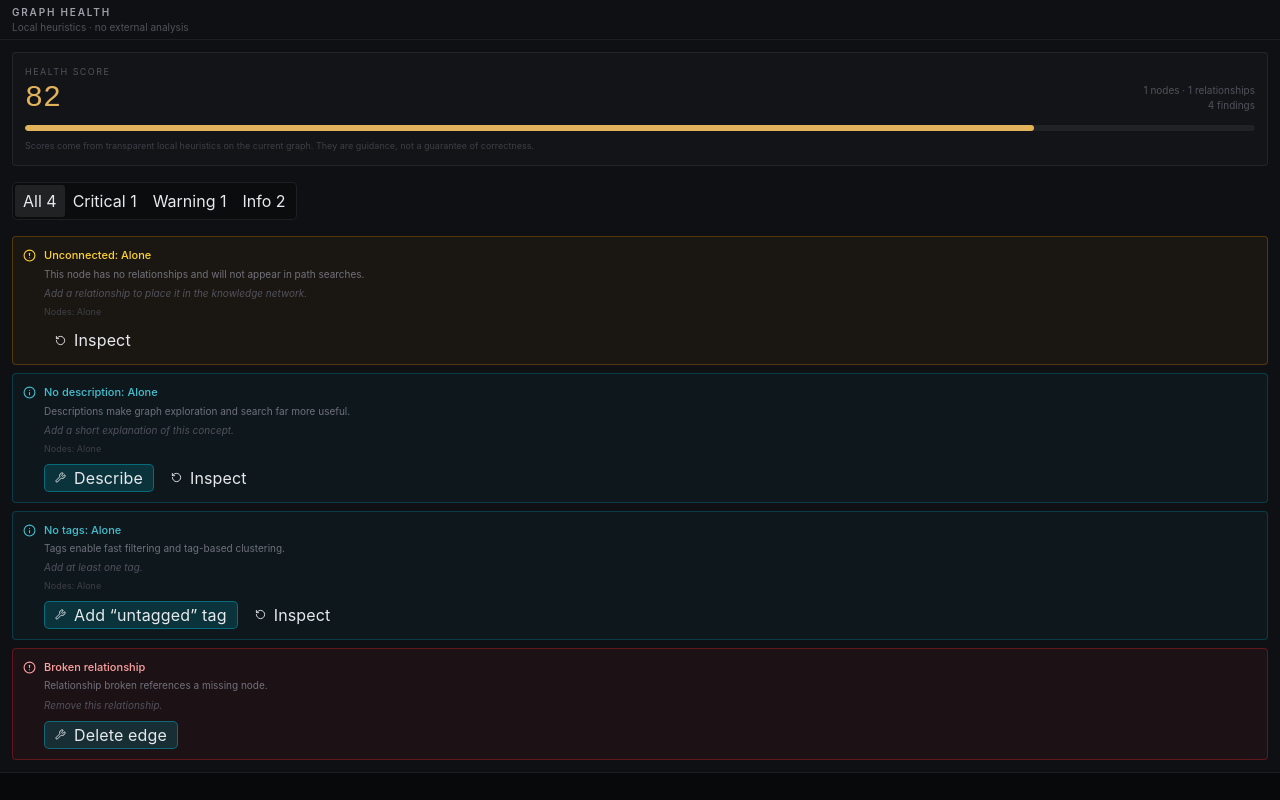
Test: HealthPanel › flags a critical broken relationship and removes it with the fix
expect the tab "Critical 1" is shown: met, box [65,185,145,217]
expect the text "Broken relationship" is shown: met, box [44,660,145,674]
Click the button "Delete edge": (111, 735) [44,721,178,749]
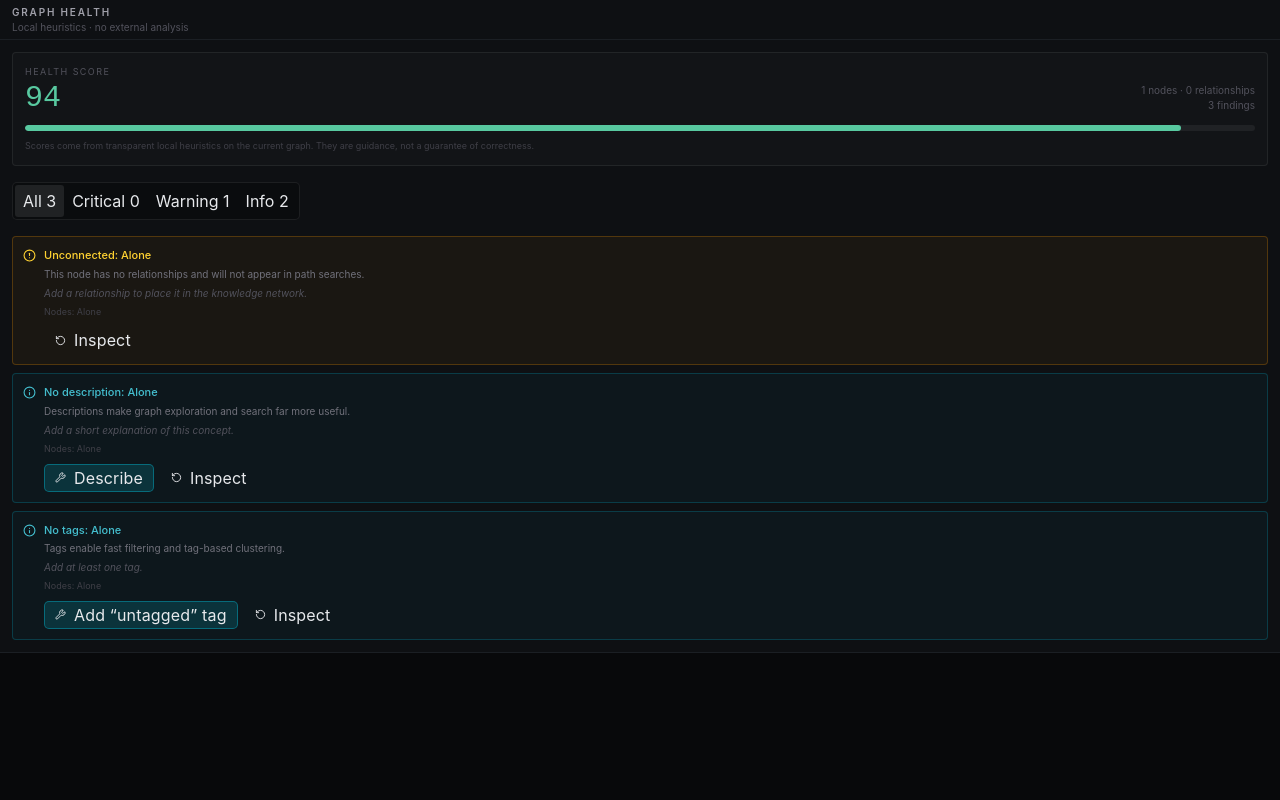
expect the text "Broken relationship" is gone: met
